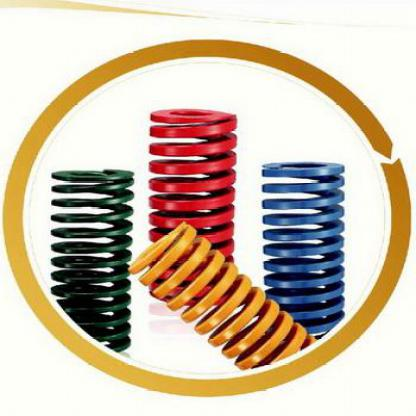FOD: (131, 218, 317, 366), (41, 161, 138, 357), (144, 105, 238, 301), (258, 157, 349, 340)
